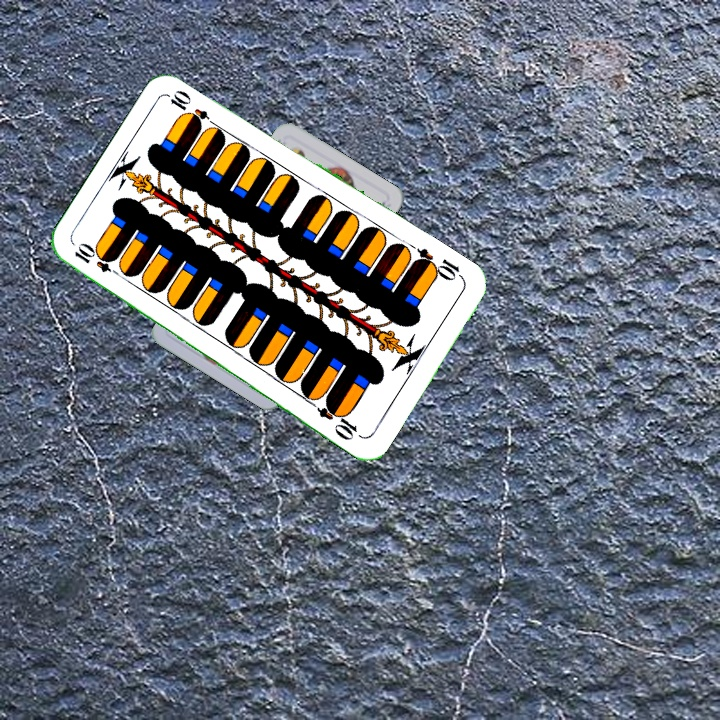E10: (409, 244, 466, 284), (70, 240, 126, 280)
